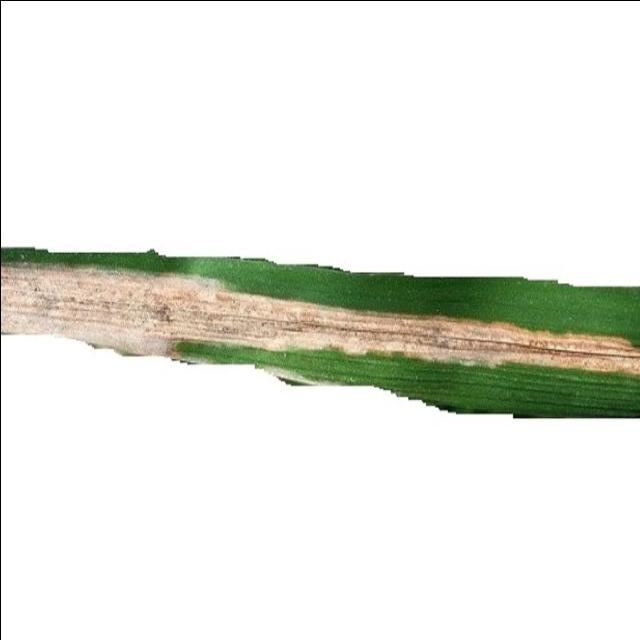Bacterial_Leaf_Blight: (0, 265, 640, 385)
